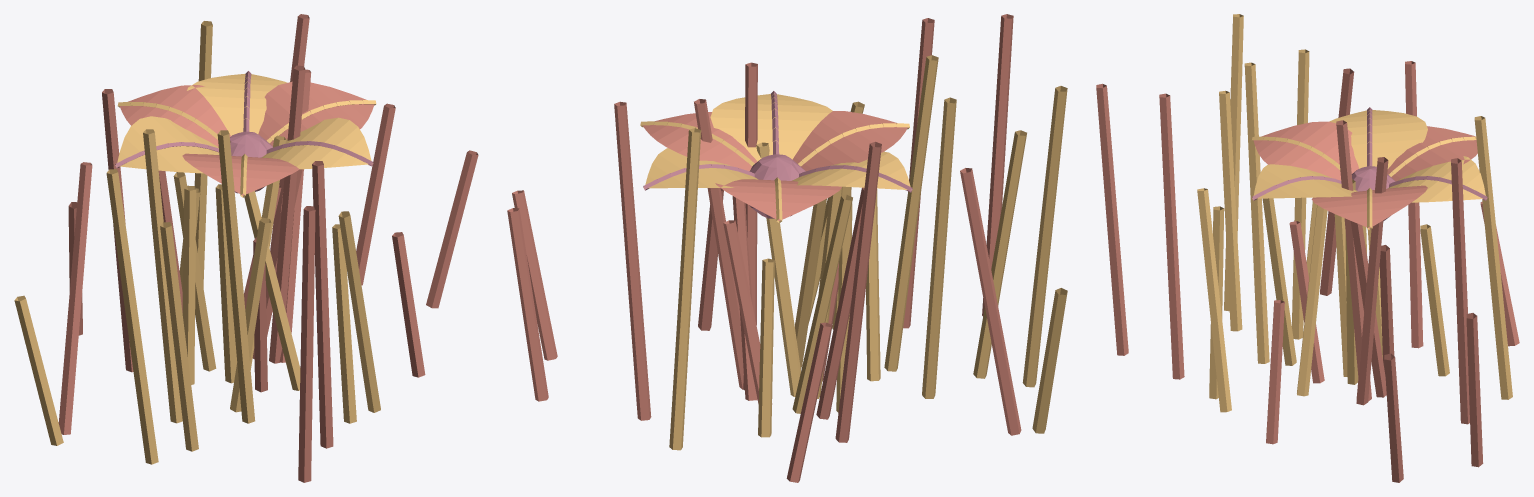
The model's file is saffron.glb.
The picture shows the model from 3 angles, left to right: view 1: azimuth 30°, elevation 25°; view 2: azimuth 150°, elevation 25°; view 3: azimuth 270°, elevation 25°; orthographic projection. The views are drawn at different scales.
Parts seen in each view (by area): view 1: saffron; view 2: saffron; view 3: saffron.
Part boxes in pixels (x1,y1,x2,y2): saffron: (14, 14, 478, 482); saffron: (507, 14, 1067, 482); saffron: (1096, 14, 1519, 482).
Size of the model in its own units: 0.9221 by 0.5368 by 0.723.
